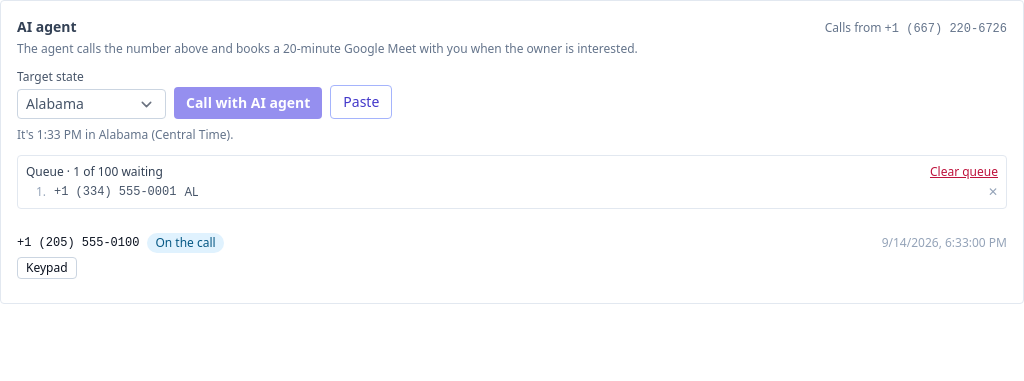
Test case: AiAgentPanel › queue › tells you a pasted school joined the queue while the agent is busy
What coordinates should you click on to do the following:
click the button with aria-label "Paste and call with AI agent"
I would click on:
 (361, 102)
Its box is [330,85,392,119].
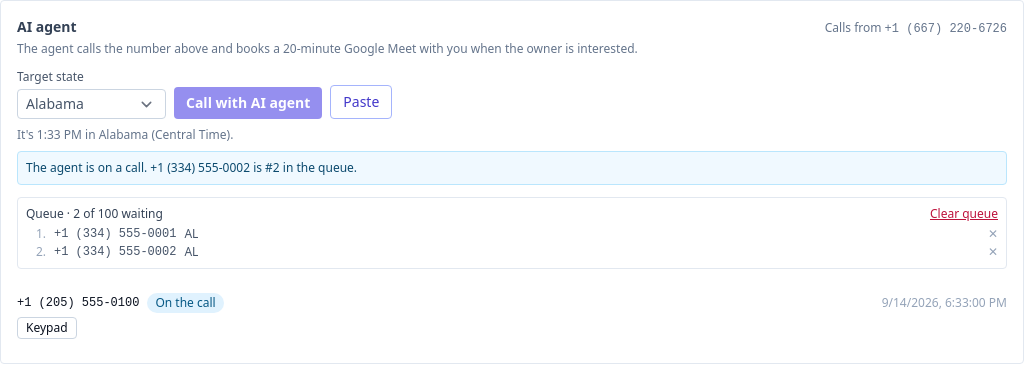
Expected: the text "The agent is on a call. +1 (334) 555-0002 is #2 in the queue." is shown, [17,151,1007,185]
Expected: the text "Queue · 2 of 100 waiting" is shown, [26,206,163,222]
Expected: the text "+1 (334) 555-0002" is shown once, [54,244,176,260]
